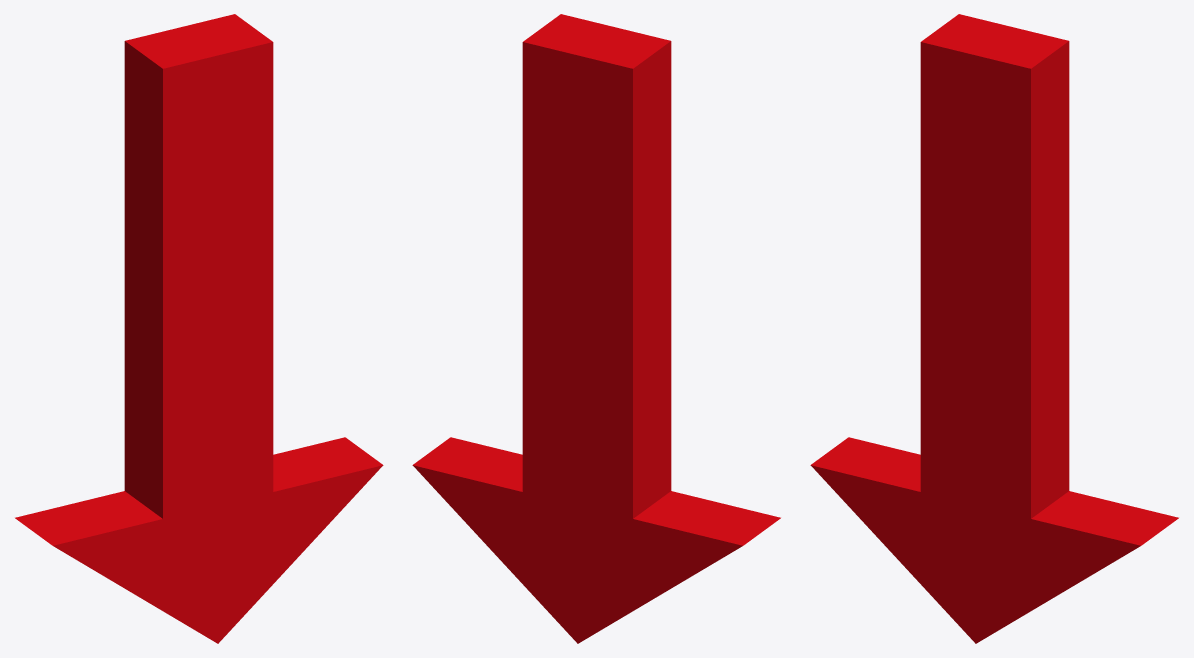
File: asset.glb
The picture shows the model from 3 angles, left to right: view 1: azimuth 30°, elevation 25°; view 2: azimuth 150°, elevation 25°; view 3: azimuth 330°, elevation 25°; orthographic projection.
Visible parts, largest first — view 1: Cube; view 2: Cube; view 3: Cube.
Part boxes in pixels (x1,y1,x2,y2): Cube: [15, 14, 383, 643]; Cube: [412, 14, 780, 643]; Cube: [810, 14, 1178, 643].
Size of the model in its own units: 10 by 17 by 2.
